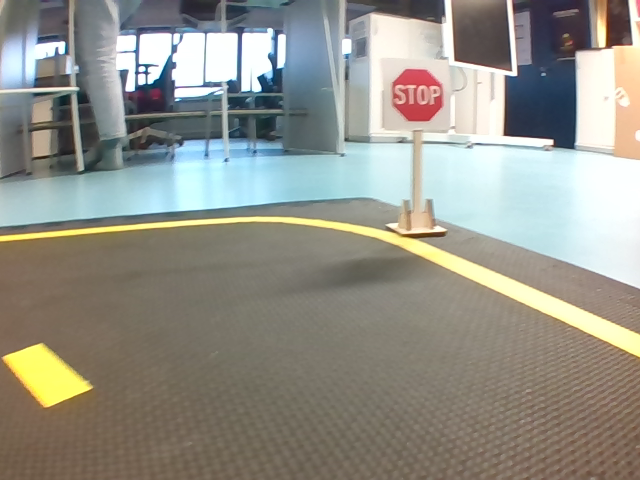stop: (383, 60, 448, 131)
